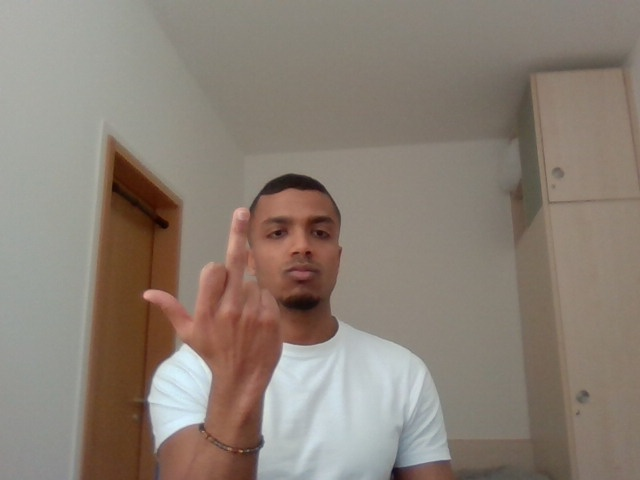fuckyou: (122, 195, 295, 434)
